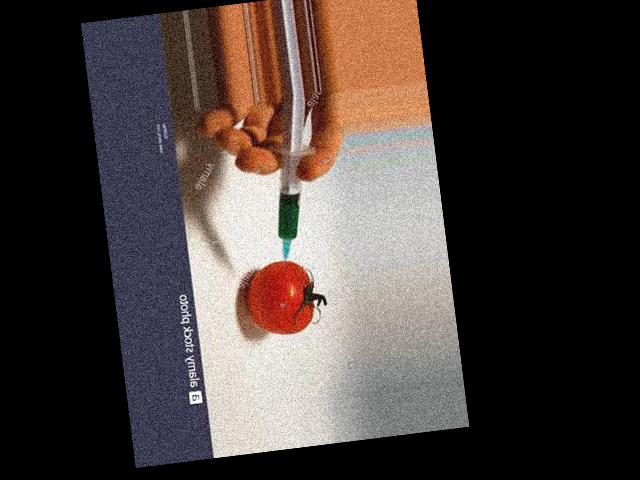tomato: (243, 257, 316, 337)
